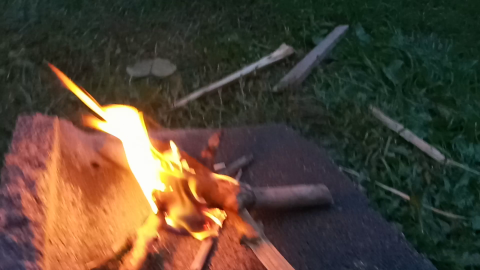fire: (43, 60, 255, 243)
